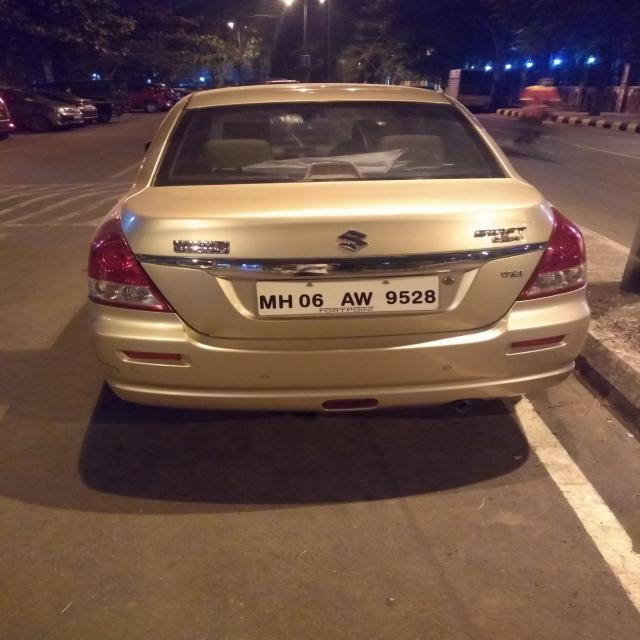Number-Plate: (256, 276, 444, 315)
